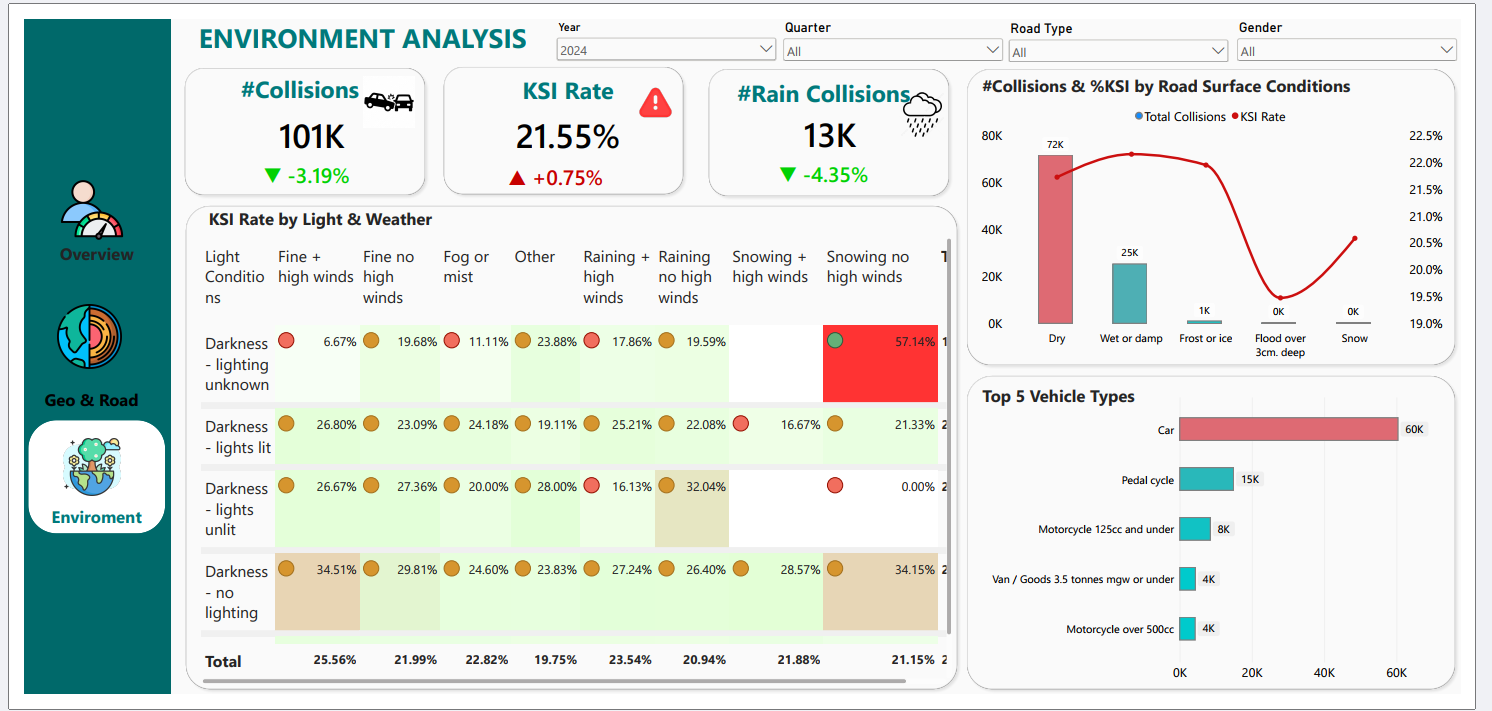

This screenshot's page, from the dashboard's own definition file:
{"tool":"powerbi","page":{"name":"Environment","canvas":[2300,1080],"ordinal":2},"visuals":[{"type":"shape","box":[0,0,234.3,1081],"z":0},{"type":"textbox","box":[280,0,605.9,64.8],"z":1000},{"type":"shape","box":[7.2,642.4,219,181],"z":2000},{"type":"image","box":[57.9,253.4,101.5,103.3],"z":3000},{"type":"image","box":[54.3,454.2,101.5,107],"z":4000},{"type":"image","box":[63.3,671.4,92.2,90.4],"z":5000},{"type":"textbox","box":[0,778.2,233.4,45.2],"z":6000},{"type":"textbox","box":[0,356,234.3,62.7],"z":7000},{"type":"textbox","box":[10.9,589.9,195.4,43.4],"z":8000},{"type":"slicer","fields":{"Values":["Dim Date.Date Hierarchy.Year"]},"box":[848,2,362,66],"z":9000},{"type":"slicer","fields":{"Values":["Dim Date.Date Hierarchy.Quarter"]},"box":[1210.9,0,362,66],"z":10000},{"type":"slicer","fields":{"Values":["Dim Road.Road Type"]},"box":[1572,2,362,66],"z":11000},{"type":"slicer","fields":{"Values":["Dim Casualty.Sex Of Casualty"]},"box":[1938,0,362,66],"z":12000},{"type":"shape","box":[250.1,70.3,400,220],"z":13000},{"type":"cardVisual","fields":{"Data":["Collision Distinct Count.Total Collisions"]},"box":[259.2,103.7,404,158],"z":14000},{"type":"textbox","box":[259.5,87.2,366.3,61.1],"z":15000},{"type":"shape","box":[664.5,68.4,400,220],"z":16000},{"type":"cardVisual","fields":{"Data":["Measures.KSI Rate"]},"box":[678.3,103.7,386.3,158],"z":17000},{"type":"textbox","box":[678.5,88,386.3,68],"z":18000},{"type":"shape","box":[1089.1,70.9,400,220],"z":19000},{"type":"cardVisual","fields":{"Data":["Collision Distinct Count.Total Collisions"]},"box":[1088.7,101.5,404,158],"z":20000},{"type":"textbox","box":[1099,91.6,364.1,52.3],"z":21000},{"type":"shape","box":[250.9,290.9,1250.9,789.1],"z":22000},{"type":"pivotTable","fields":{"Columns":["Dim Environment.Weather Conditions"],"Rows":["Dim Environment.Light Conditions"],"Values":["Measures.KSI Rate"]},"box":[269.1,336.4,1232.7,743.6],"z":23000},{"type":"textbox","box":[296,300.7,616.4,85.5],"z":24000},{"type":"shape","box":[1501.8,70.9,798.2,490.9],"z":25000},{"type":"lineStackedColumnComboChart","fields":{"Category":["Dim Environment.Road Surface Conditions"],"Y":["Collision Distinct Count.Total Collisions"],"Y2":["Measures.KSI Rate"]},"box":[1516.4,121.8,772.7,440],"z":26000},{"type":"shape","box":[1501.8,561.8,798.2,518.2],"z":27000},{"type":"textbox","box":[1534.5,87.3,658.2,92.7],"z":28000},{"type":"clusteredBarChart","fields":{"Category":["Dim Vehicle.Vehicle Type"],"Y":["Collision Distinct Count.Total Collisions"]},"box":[1516.4,583.6,772.7,496.4],"z":29000},{"type":"textbox","box":[1534.5,583.6,669.1,58.2],"z":30000},{"type":"image","box":[543.6,85.5,81.8,94.5],"z":31000},{"type":"image","box":[978.2,101.8,67.3,63.6],"z":32000},{"type":"image","box":[1392.7,114.5,90.9,76.4],"z":33000},{"type":"cardVisual","fields":{"Data":["Measures.Collisions YoY %"]},"box":[259.6,209.5,386.6,75.6],"z":34000},{"type":"cardVisual","fields":{"Data":["Measures.KSI Rate YoY %"]},"box":[658.8,213.8,386.6,75.6],"z":35000},{"type":"cardVisual","fields":{"Data":["Measures.Collisions YoY %"]},"box":[1087.4,207.7,387.3,76.9],"z":35001}]}

Visuals, with their boxes in screenshot pixels (x1, y1, x2, y2), scaled from the page's 2300x1080 canvas onto the 1492x711 screenshot:
shape: Rect(0, 0, 152, 710)
textbox: Rect(182, 0, 575, 43)
shape: Rect(5, 423, 147, 542)
image: Rect(38, 167, 103, 235)
image: Rect(35, 299, 101, 369)
image: Rect(41, 442, 101, 502)
textbox: Rect(0, 512, 151, 542)
textbox: Rect(0, 234, 152, 276)
textbox: Rect(7, 388, 134, 417)
slicer - Dim Date.Date Hierarchy.Year: Rect(550, 1, 785, 45)
slicer - Dim Date.Date Hierarchy.Quarter: Rect(786, 0, 1020, 43)
slicer - Dim Road.Road Type: Rect(1020, 1, 1255, 45)
slicer - Dim Casualty.Sex Of Casualty: Rect(1257, 0, 1491, 43)
shape: Rect(162, 46, 422, 191)
cardVisual - Collision Distinct Count.Total Collisions: Rect(168, 68, 430, 172)
textbox: Rect(168, 57, 406, 98)
shape: Rect(431, 45, 691, 190)
cardVisual - Measures.KSI Rate: Rect(440, 68, 691, 172)
textbox: Rect(440, 58, 691, 103)
shape: Rect(706, 47, 966, 192)
cardVisual - Collision Distinct Count.Total Collisions: Rect(706, 67, 968, 171)
textbox: Rect(713, 60, 949, 95)
shape: Rect(163, 192, 974, 710)
pivotTable - Dim Environment.Weather Conditions x Dim Environment.Light Conditions: Rect(175, 221, 974, 710)
textbox: Rect(192, 198, 592, 254)
shape: Rect(974, 47, 1491, 370)
lineStackedColumnComboChart - Dim Environment.Road Surface Conditions x Collision Distinct Count.Total Collisions: Rect(984, 80, 1485, 370)
shape: Rect(974, 370, 1491, 710)
textbox: Rect(995, 57, 1422, 118)
clusteredBarChart - Dim Vehicle.Vehicle Type x Collision Distinct Count.Total Collisions: Rect(984, 384, 1485, 710)
textbox: Rect(995, 384, 1429, 423)
image: Rect(353, 56, 406, 118)
image: Rect(635, 67, 678, 109)
image: Rect(903, 75, 962, 126)
cardVisual - Measures.Collisions YoY %: Rect(168, 138, 419, 188)
cardVisual - Measures.KSI Rate YoY %: Rect(427, 141, 678, 191)
cardVisual - Measures.Collisions YoY %: Rect(705, 137, 957, 187)
